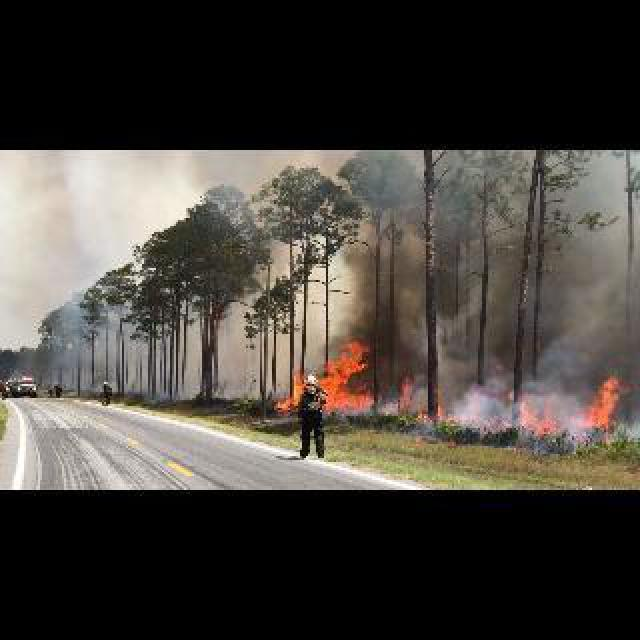Fire: (318, 340, 384, 410), (581, 362, 624, 442), (274, 372, 304, 408)
